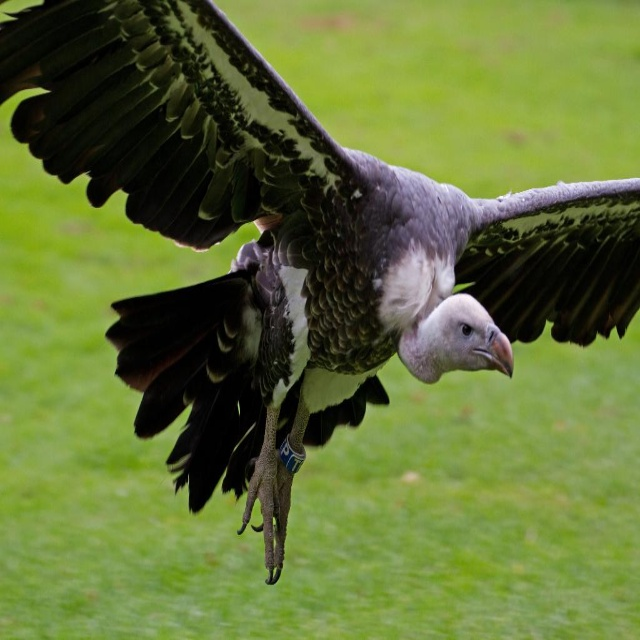Eagle: (0, 0, 640, 586)
